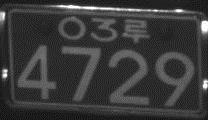0: (57, 16, 86, 41)
2: (108, 47, 150, 106)
3: (90, 17, 118, 42)
4: (16, 44, 57, 100)
7: (60, 44, 101, 101)
9: (154, 49, 195, 106)
루: (122, 19, 149, 43)
